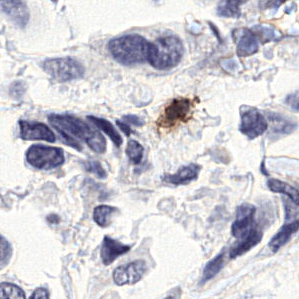Lymphocyte: (156, 97, 195, 127)
